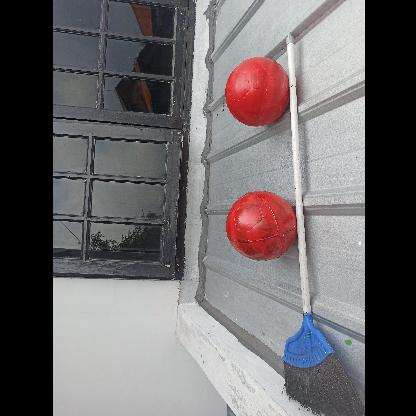red_ball: (224, 190, 294, 260), (223, 55, 290, 122)
